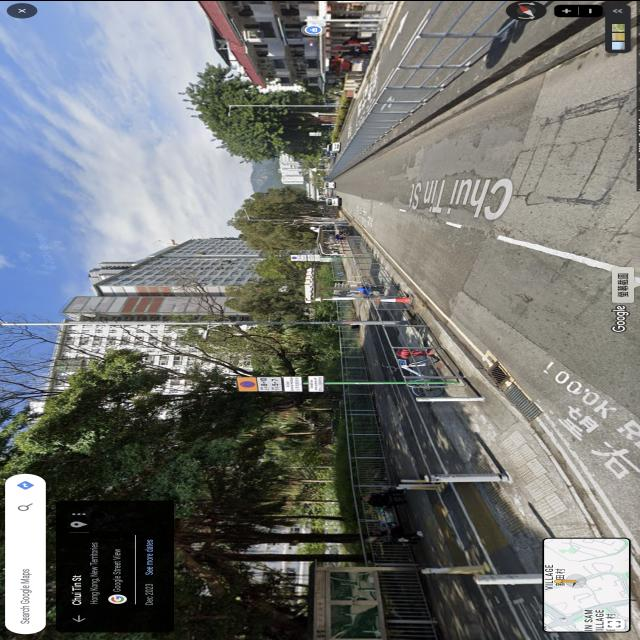Order-Sign: (236, 376, 283, 390), (284, 375, 302, 390), (308, 375, 324, 391), (291, 254, 306, 260)
